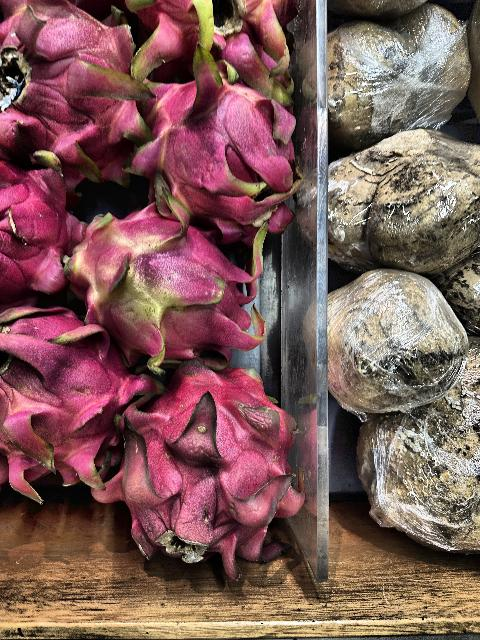buah-naga-belum-matang: (66, 208, 252, 358)
buah-naga-matang: (130, 360, 302, 578), (135, 64, 301, 228), (0, 3, 146, 173), (0, 302, 130, 483), (125, 0, 313, 78), (0, 142, 80, 288)
